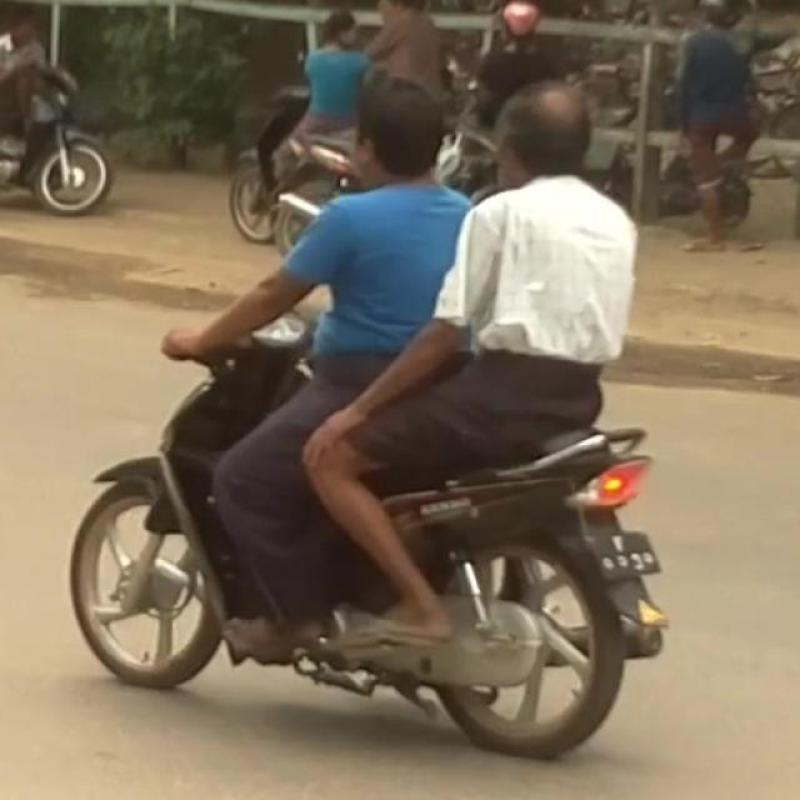nohelmet: (292, 29, 453, 190), (467, 57, 611, 195)
